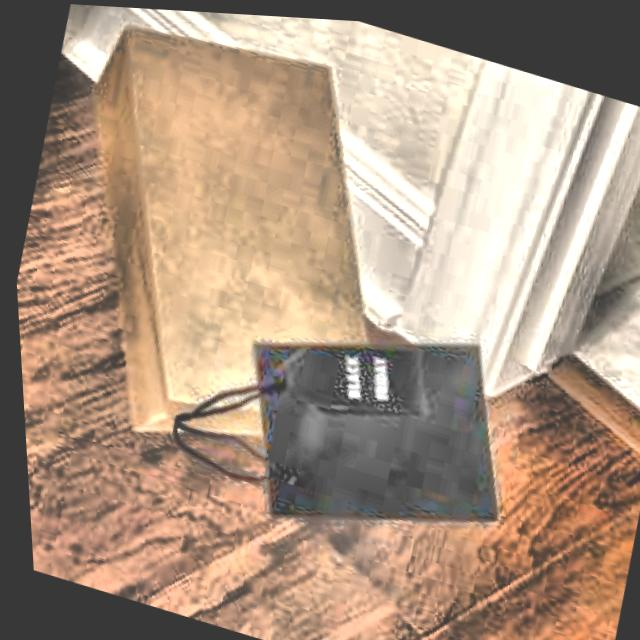Paper-bag: (0, 0, 465, 507), (133, 239, 551, 588)
